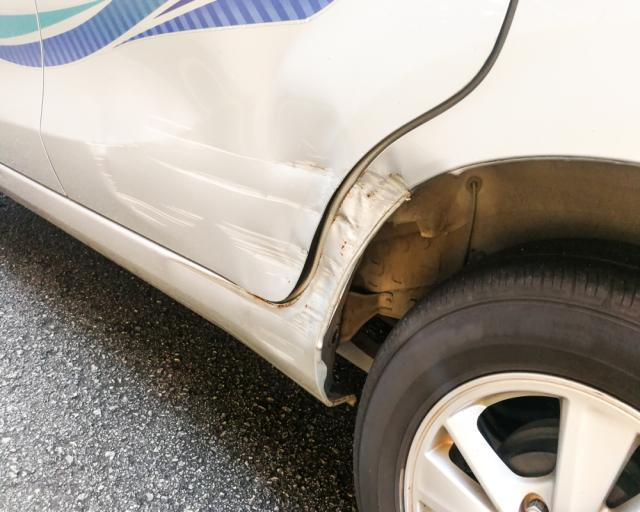dent: (92, 39, 353, 274), (286, 150, 407, 339)
